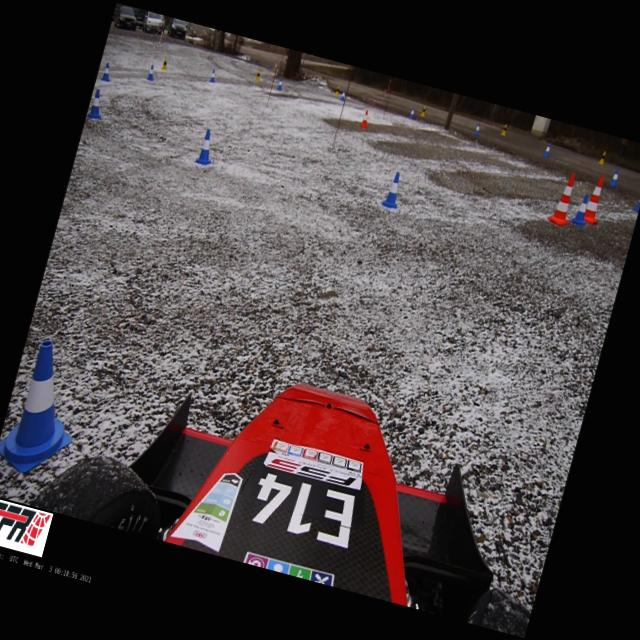blue_cone: (0, 335, 95, 482), (193, 128, 220, 167), (380, 170, 406, 208), (570, 192, 592, 226), (86, 88, 108, 120), (100, 62, 113, 82), (609, 168, 620, 188), (146, 64, 156, 80), (542, 142, 552, 157), (208, 68, 218, 82), (276, 77, 284, 90), (473, 122, 481, 135), (408, 106, 416, 118), (339, 88, 346, 100)
large_orange_cone: (547, 170, 581, 227), (580, 172, 610, 225)
orange_cone: (359, 108, 371, 128)
yellow_cone: (598, 150, 606, 165), (160, 56, 168, 70), (254, 68, 262, 82), (500, 122, 508, 136), (334, 84, 341, 96), (420, 104, 427, 116)
